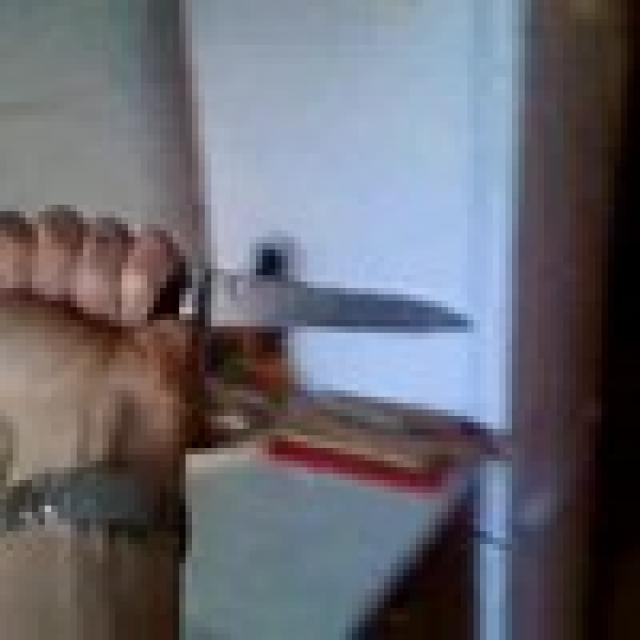Knife: (26, 224, 473, 339)
